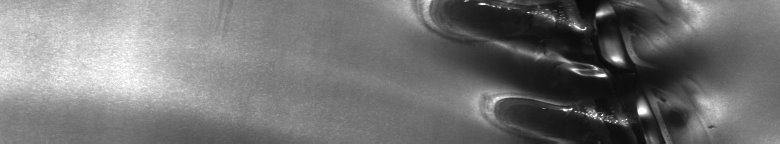ke: (424, 4, 714, 136)
